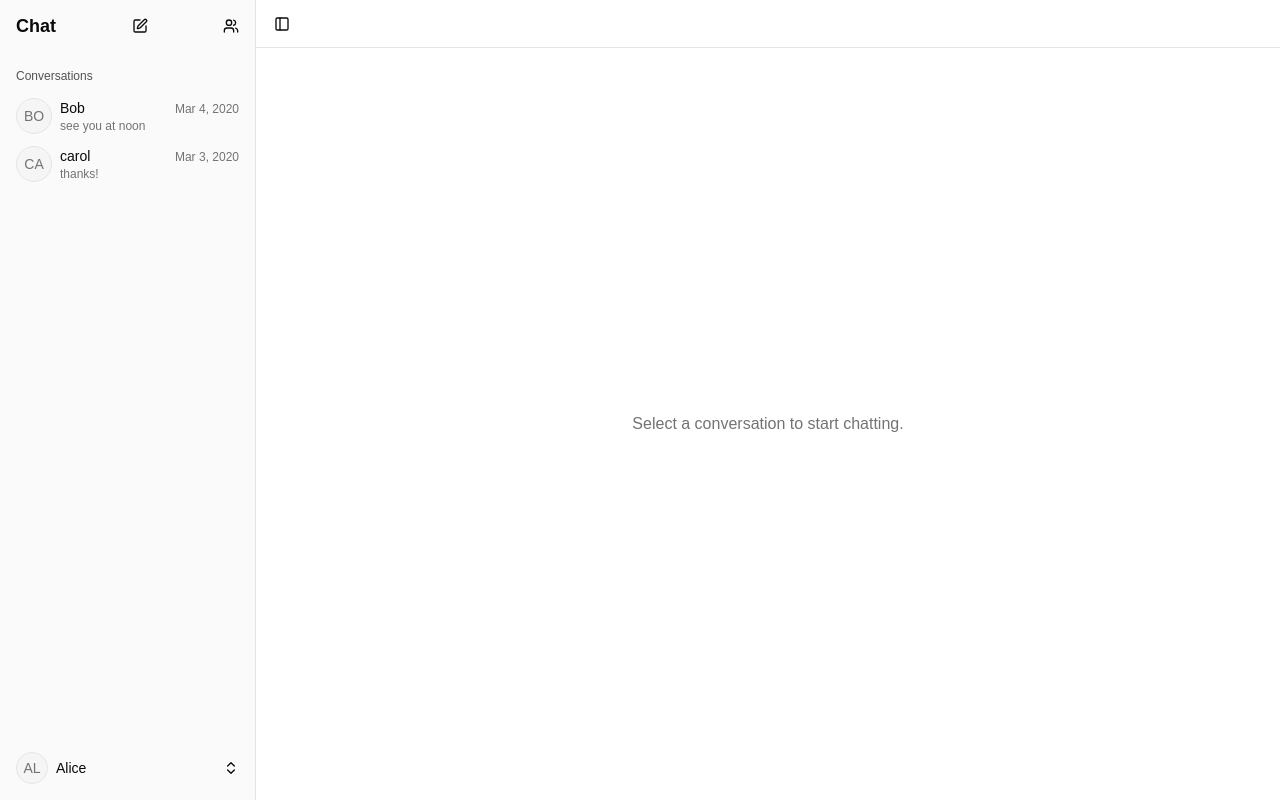
Test: Conversation list › opens the Conversation and its Messages when one is selected
Click the button "BO Bob Mar 4, 2020 see you at noon": (128, 116) 8,92 -> 247,140
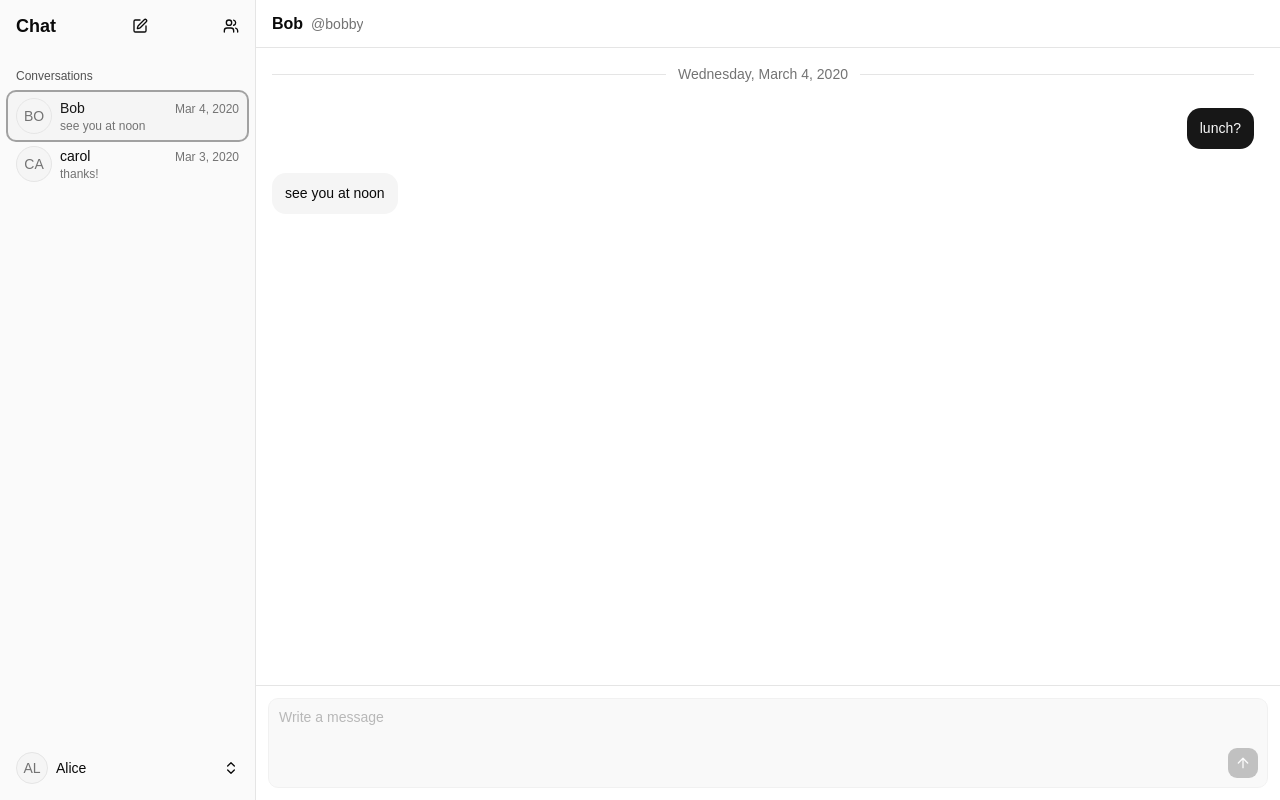
Now the heading "Bob" is shown, box 272,12 -> 303,36
Now the button "lunch?" is shown, box 1187,108 -> 1254,149
